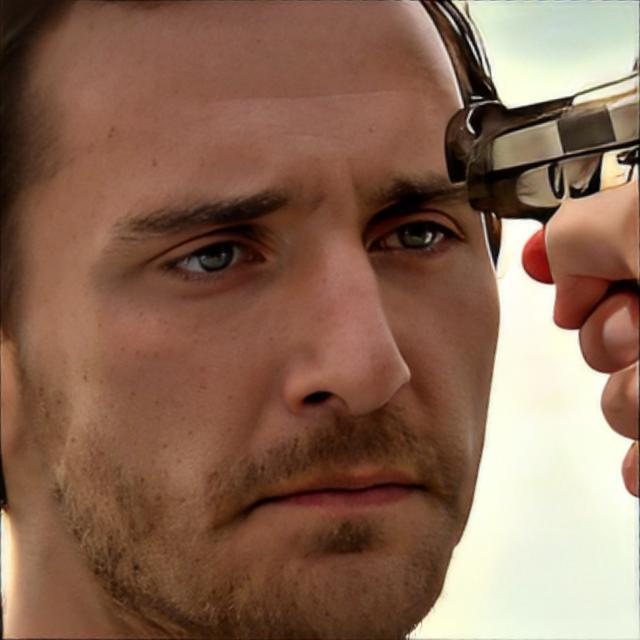sad: (13, 4, 500, 640)
